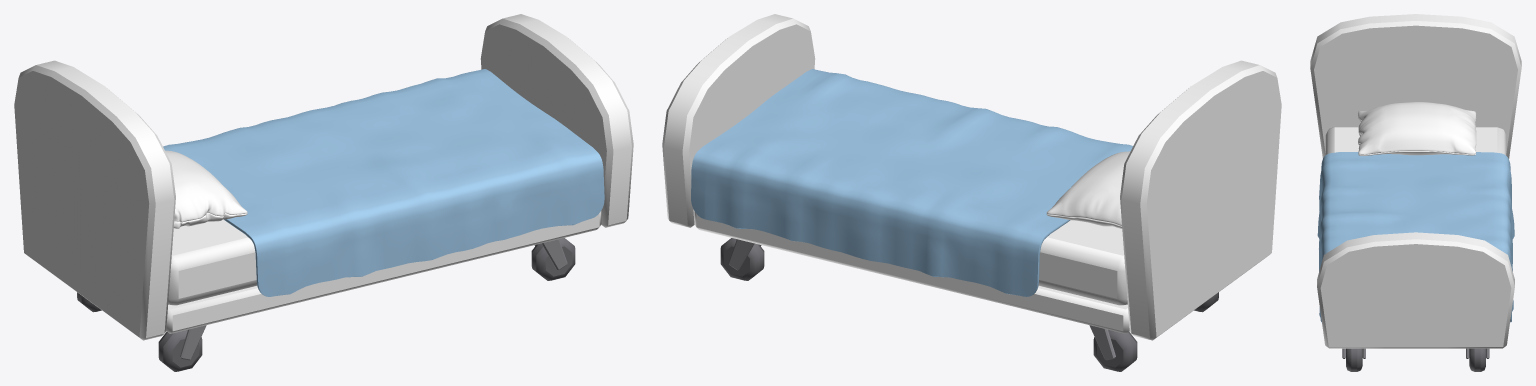
The model's file is Bed.fbx.
3 views of the same model, side by side, from view 1: azimuth 30°, elevation 25°; view 2: azimuth 150°, elevation 25°; view 3: azimuth 270°, elevation 25° (orthographic). The views are drawn at different scales.
Visible parts, largest first — view 1: Bed; view 2: Bed; view 3: Bed.
Boxes of the visible parts, <box> form: Bed: <box>14,14,633,371</box>; Bed: <box>662,14,1281,371</box>; Bed: <box>1310,14,1521,371</box>.
Bounding box in the file's own units: 2.36 × 1.21 × 1.17.
